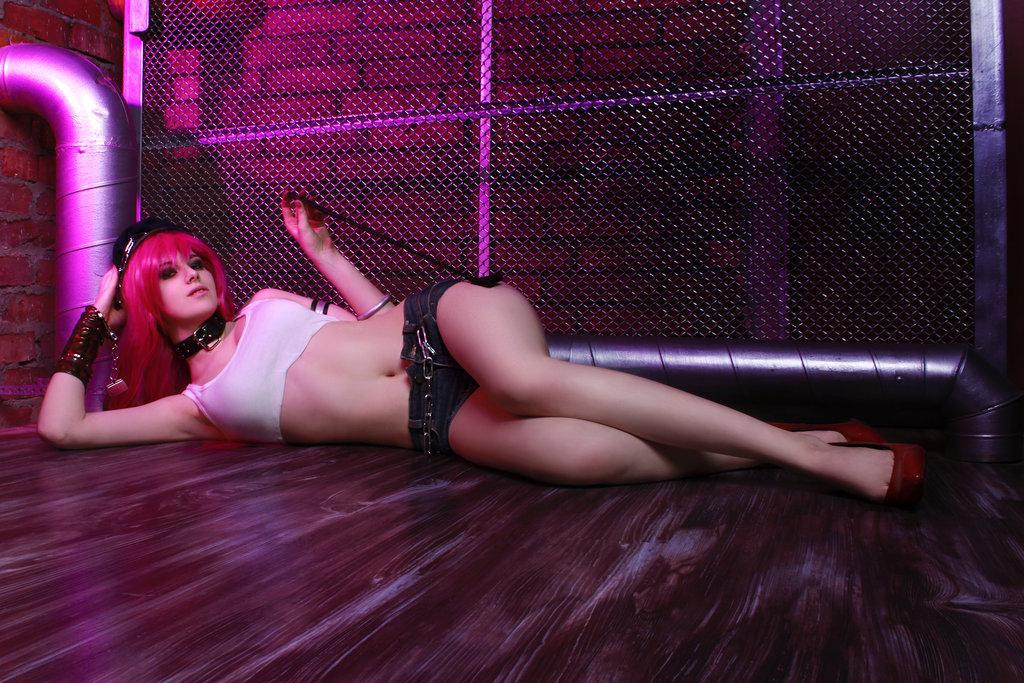face: (143, 245, 225, 323)
